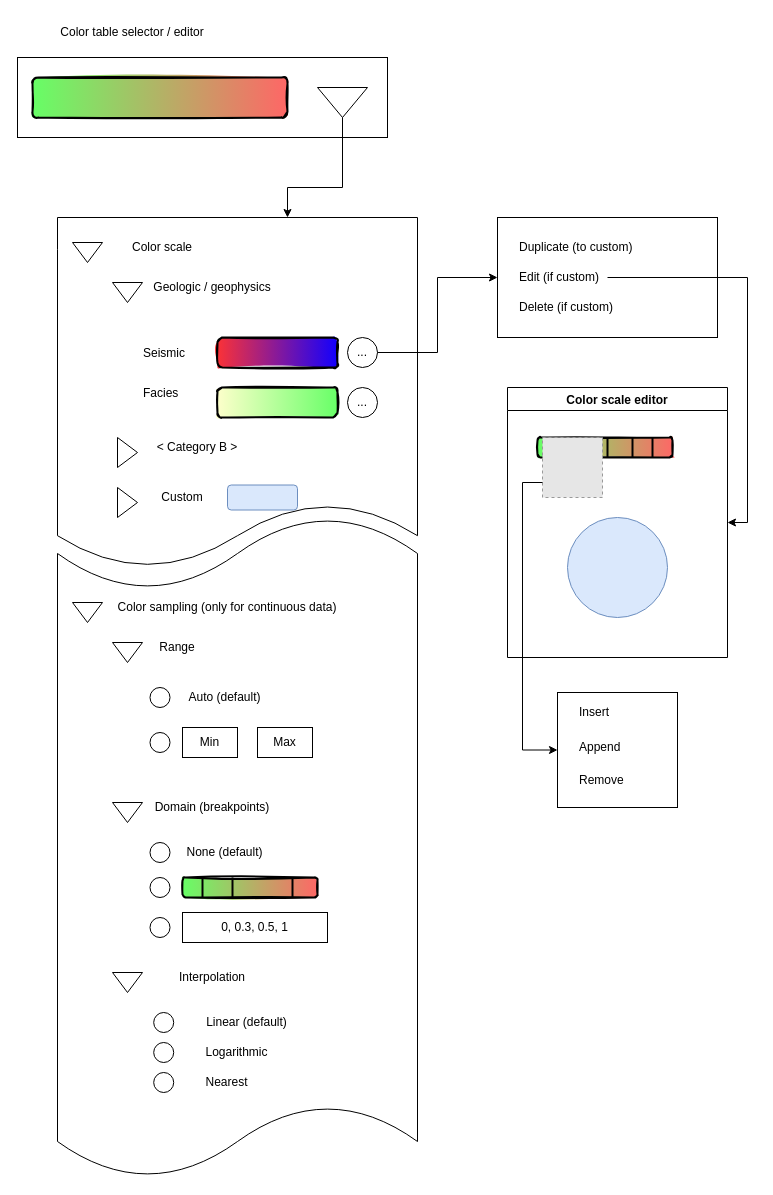
Image size: 773x1195. Some labels were removed from this diagram. Grey dashed boxes stand in for pictures. Each missing label, with the centre of its shape:
"Create" belongs at point 262,497.
"JS color picker" belongs at point 617,567.
